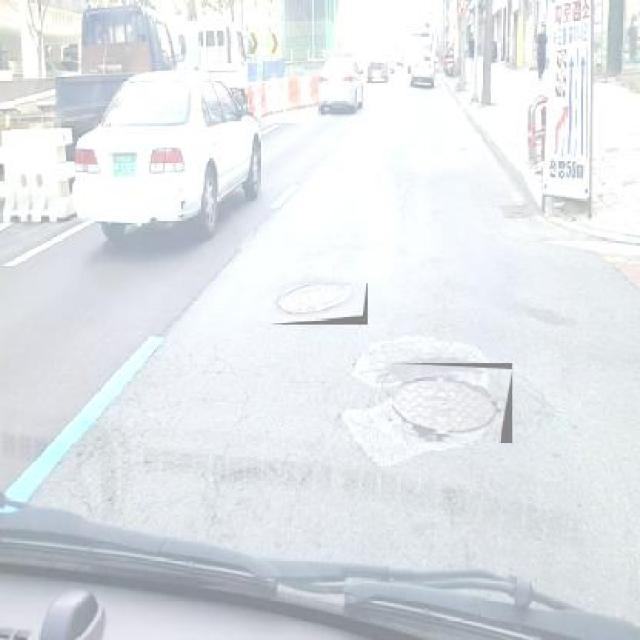Manhole: (392, 364, 512, 444), (272, 283, 368, 325)
Pothole: (524, 298, 570, 326), (413, 420, 450, 440)
